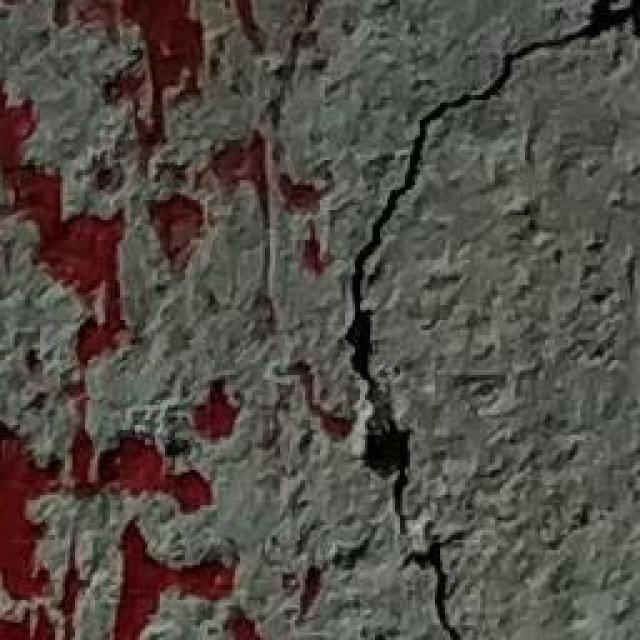Diagonal: (397, 0, 640, 107)
Longitudinal: (346, 112, 640, 628)
Rippled: (7, 4, 336, 640)
